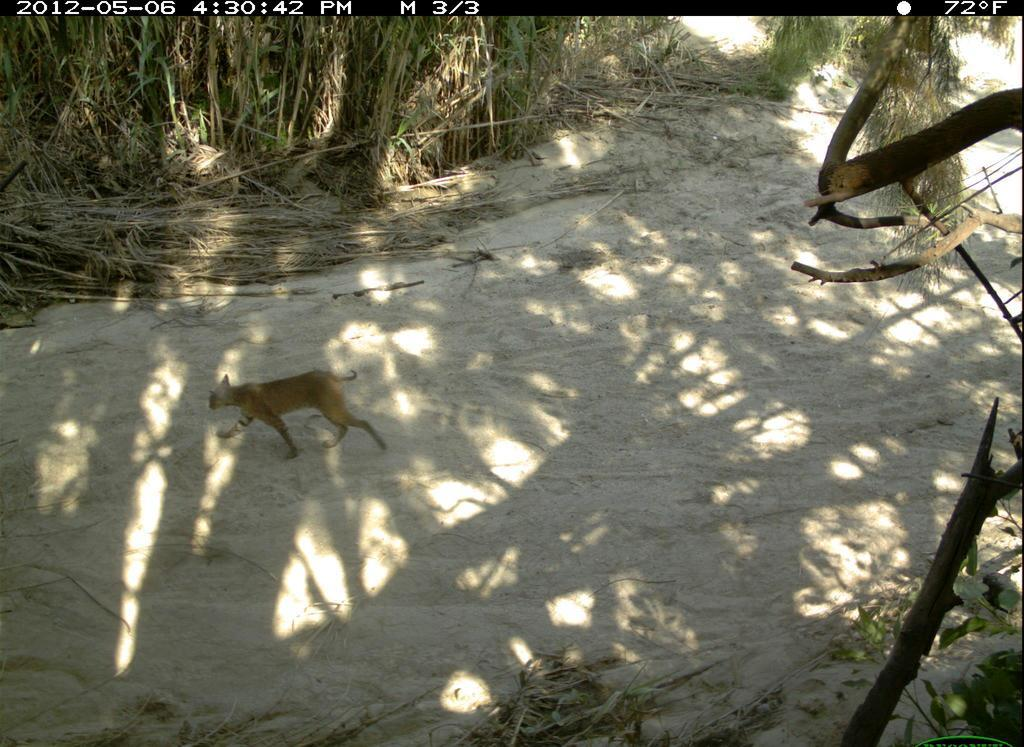bobcat: (196, 347, 396, 477)
